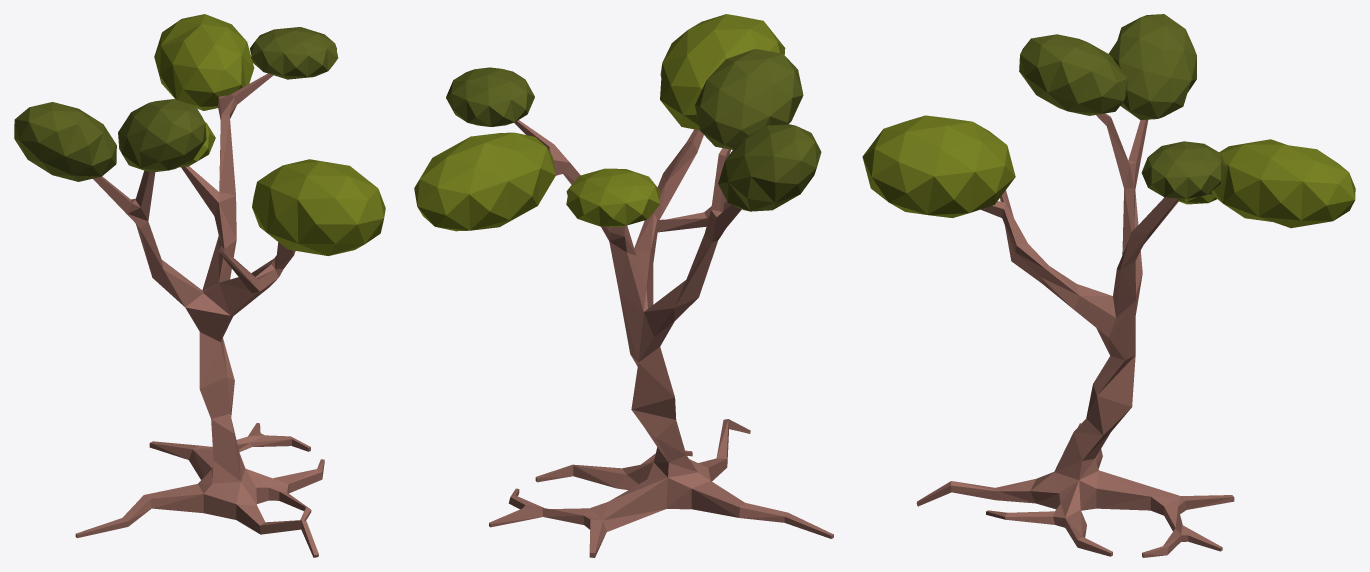
Rendered from Big Tree_4.fbx.
The picture shows the model from 3 angles, left to right: view 1: azimuth 30°, elevation 25°; view 2: azimuth 150°, elevation 25°; view 3: azimuth 270°, elevation 25°; orthographic projection. The views are drawn at different scales.
Visible parts, largest first — view 1: Big Tree_4; view 2: Big Tree_4; view 3: Big Tree_4.
Boxes of the visible parts, x1,y1,x2,y2 form: Big Tree_4: [14, 14, 385, 557]; Big Tree_4: [414, 14, 833, 557]; Big Tree_4: [862, 14, 1355, 557].
Bounding box in the file's own units: 5.13 × 6.28 × 6.56.
